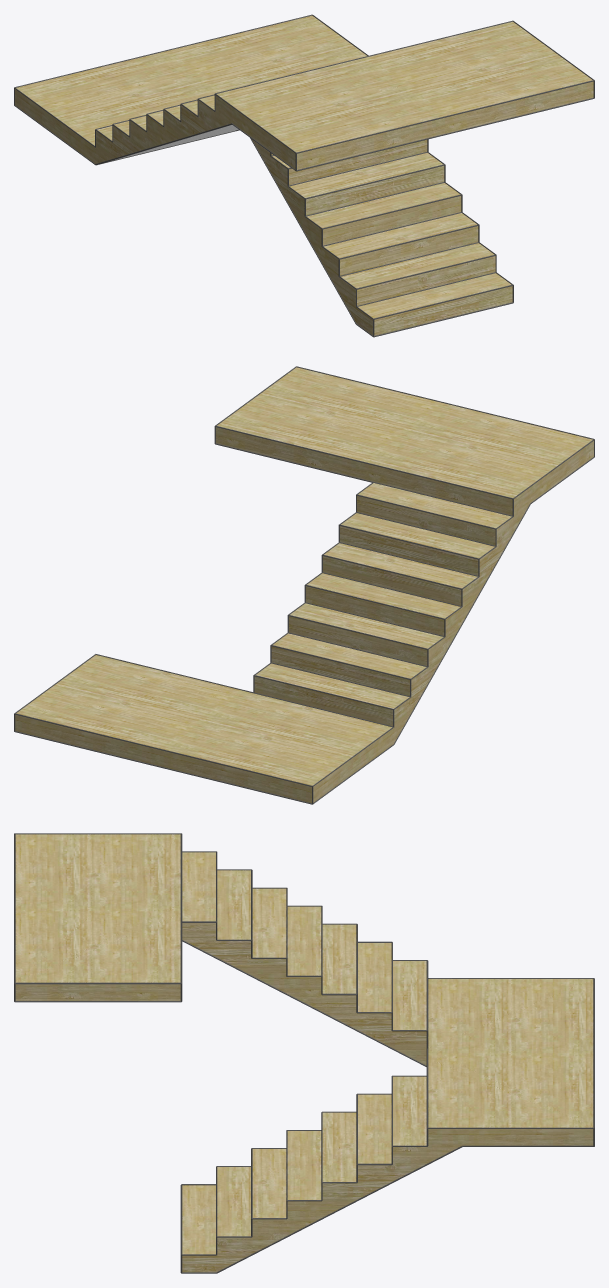
File: escada.glb
3 views of the same model, one above another, from view 1: azimuth 30°, elevation 25°; view 2: azimuth 150°, elevation 25°; view 3: azimuth 270°, elevation 25° (orthographic). The views are drawn at different scales.
Parts seen in each view (by area): view 1: root, object 93, object 97, object 49; view 2: root, object 49, object 80; view 3: root.
Part boxes in pixels (box(x1,y1,x2,y2)): root: box(15, 15, 593, 335); object 93: box(296, 80, 594, 153); object 97: box(296, 97, 594, 171); object 49: box(15, 14, 312, 87); root: box(15, 367, 593, 803); object 49: box(14, 713, 312, 786); object 80: box(14, 731, 312, 804); root: box(15, 834, 593, 1272).
Size of the model in its own units: 3.21 by 2.9 by 5.25.
Materials: 3 (2 with a texture image).
